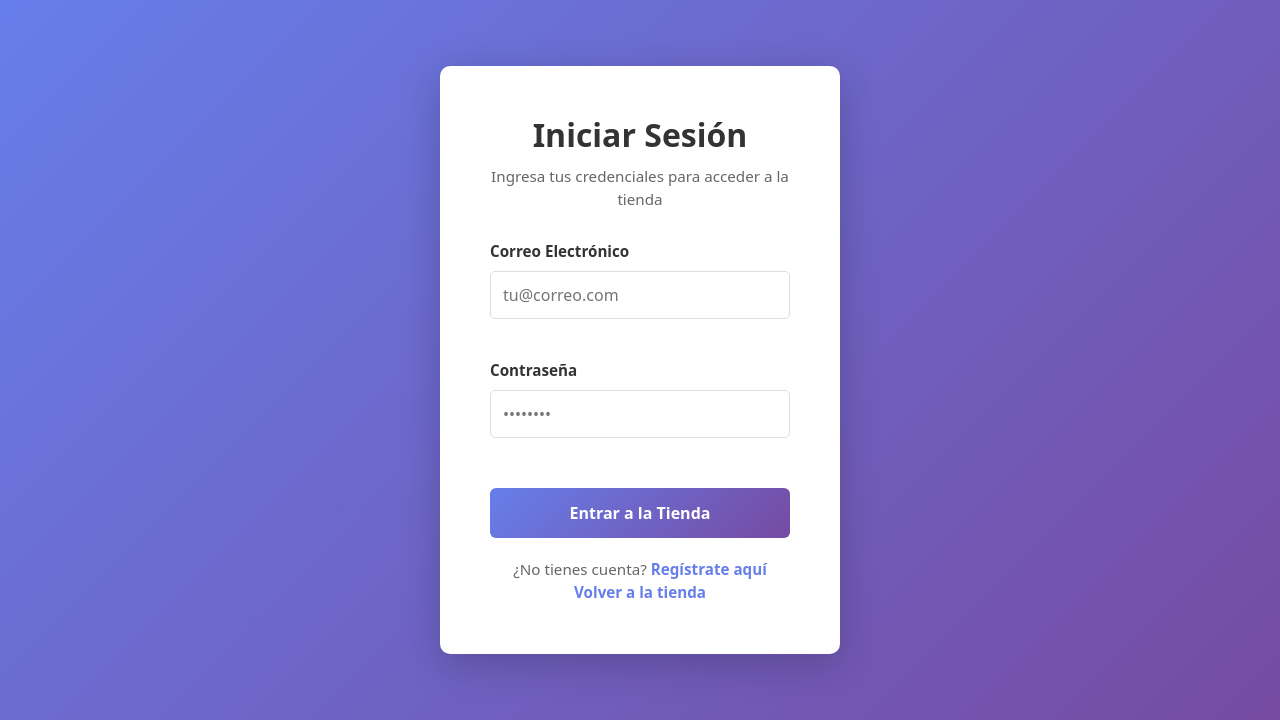
Test: Login Page › Manejo de errores › debe deshabilitar el botón mientras se procesa el envío (isSubmitting)
In the field labelled "Correo Electrónico": (640, 295) [490, 271, 790, 319], type "test@test.com"
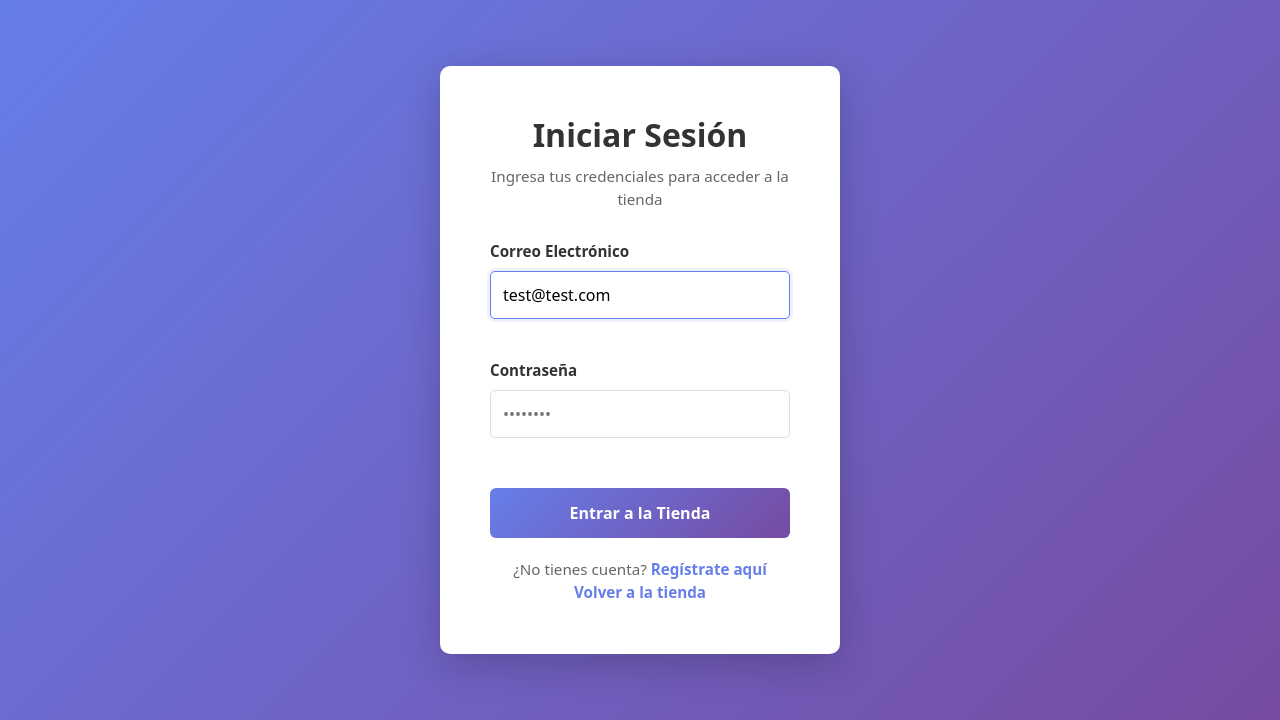
In the password field labelled "Contraseña": (640, 414) [490, 390, 790, 438], type "pass123"
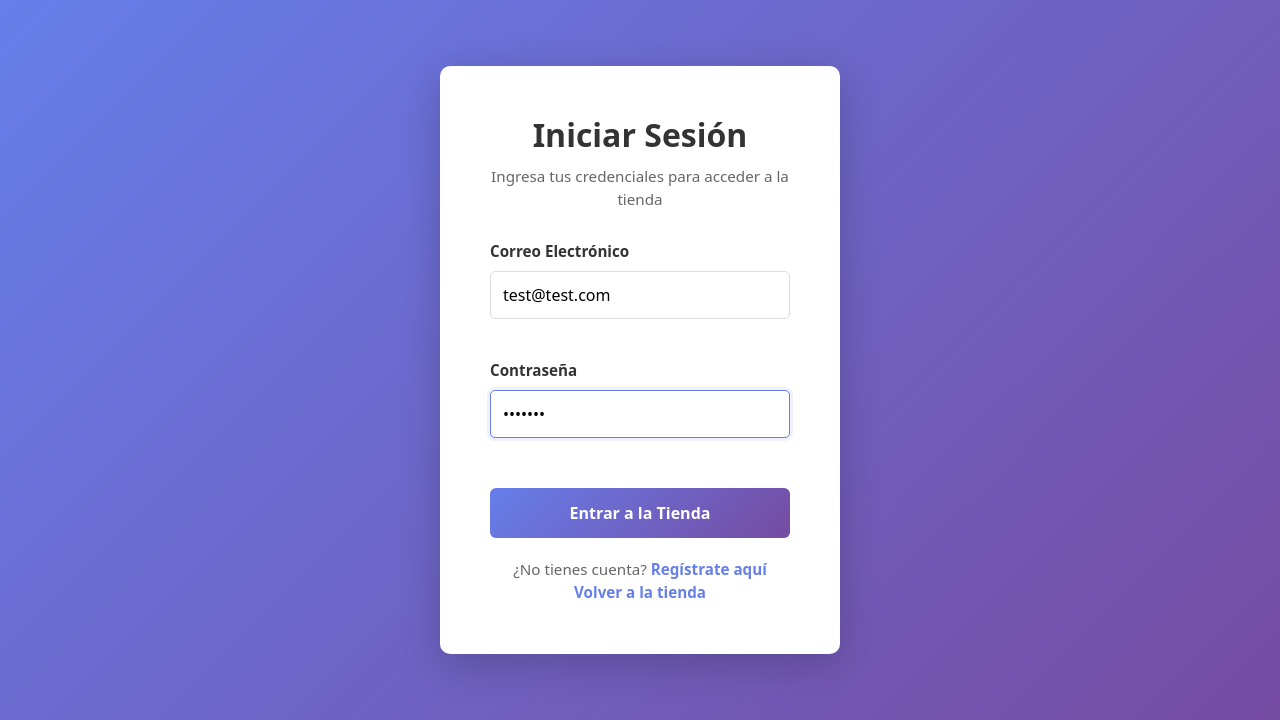
Click the button "Entrar a la Tienda": (640, 513) [490, 488, 790, 538]
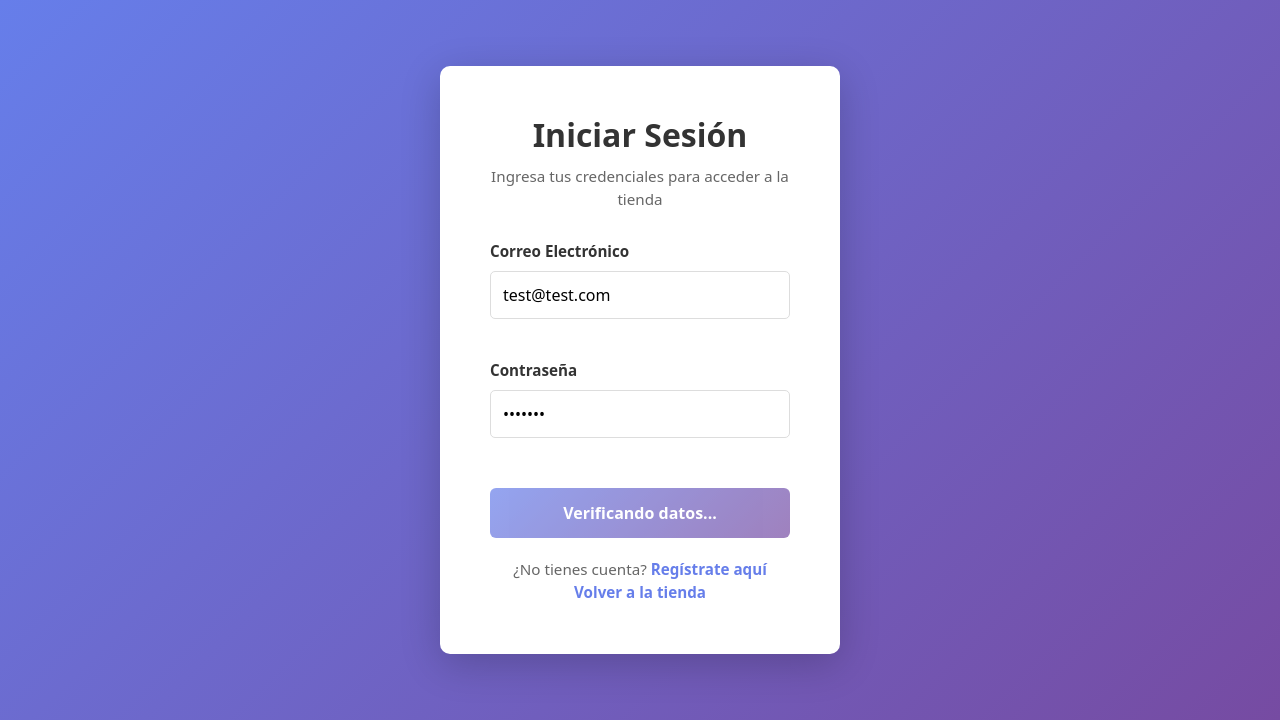
Check: the button "Verificando datos..." is disabled, box [490, 488, 790, 538]
